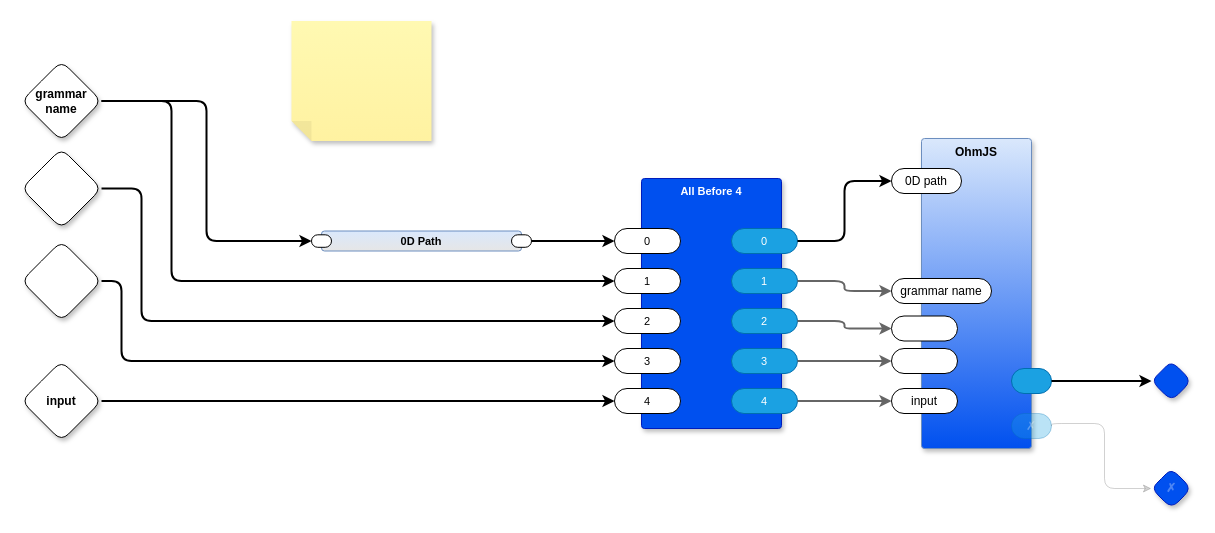
This 1215x533 diagram has some shape labels left out. The centre of each missing label's shape, as x and y in pixels:
"grammar" goes at pixel 924 328.
"grammar and semantics are file name strings" goes at pixel 362 82.
"grammarfn" goes at pixel 62 190.
"semantics" goes at pixel 924 361.
"semanticsfn" goes at pixel 62 282.
